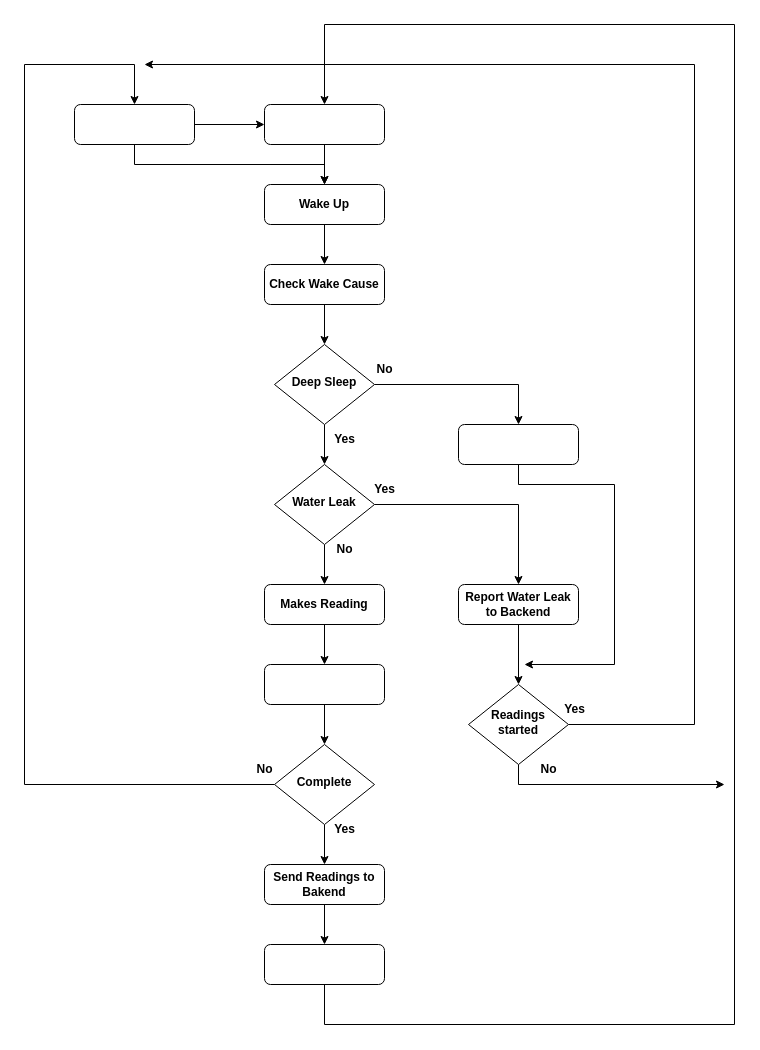
Image size: 760x1050. Some labels were removed from this diagram. The shapes that lost their labels are listed below. From the top down, each one's centre as x and y in pixels, then its label:
At pixel 134 124: "Short Sleep".
At pixel 324 124: "Long Sleep".
At pixel 518 444: "Report Undefiened to Bakend".
At pixel 324 684: "Store Record".
At pixel 324 964: "Erase Records".
